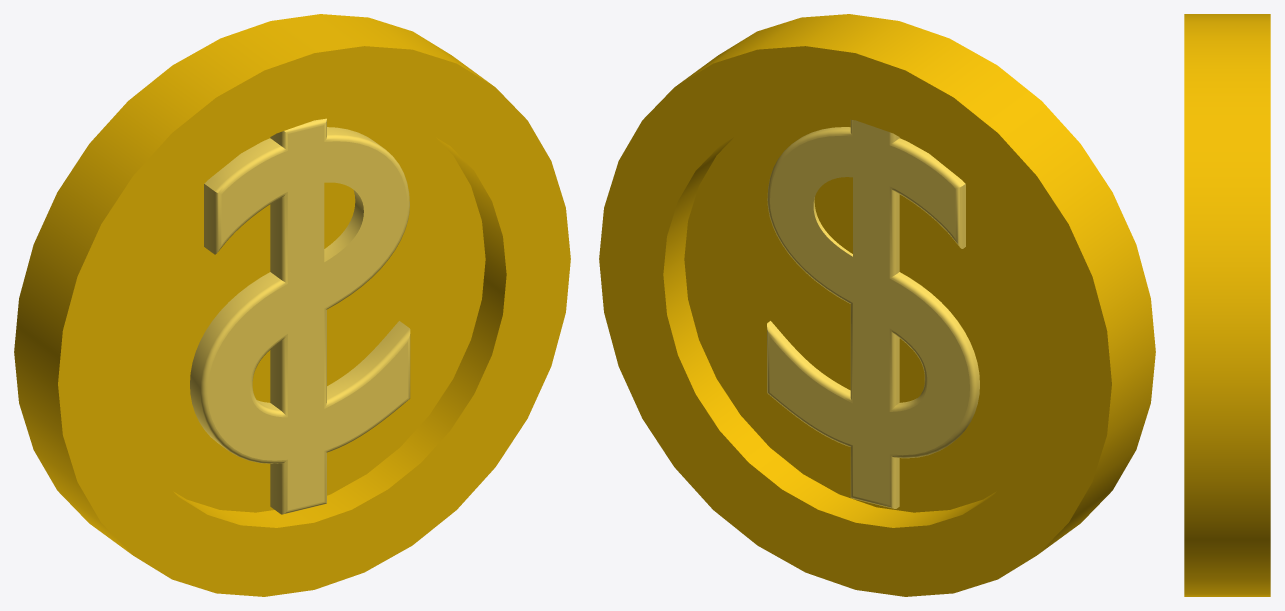
File: Gold.fbx
The picture shows the model from 3 angles, left to right: view 1: azimuth 30°, elevation 25°; view 2: azimuth 150°, elevation 25°; view 3: azimuth 270°, elevation 25°; orthographic projection.
Visible parts, largest first — view 1: Gold; view 2: Gold; view 3: Gold.
Part boxes in pixels (bbox=[...]): Gold: bbox=[14, 14, 570, 596]; Gold: bbox=[599, 14, 1155, 596]; Gold: bbox=[1184, 14, 1270, 596].
Bounding box in the file's own units: 74.94 × 74.94 × 11.1.
